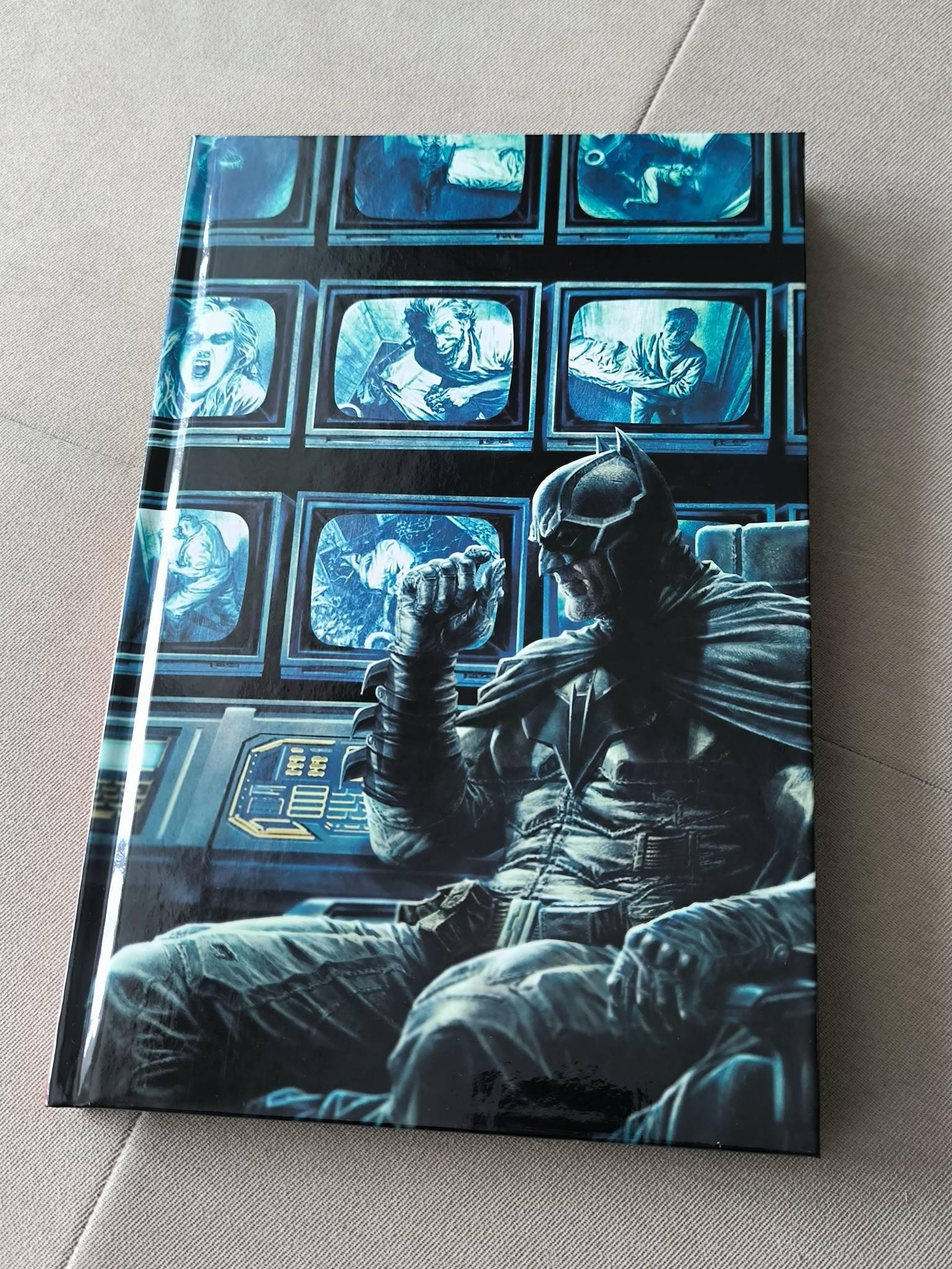comic: (48, 95, 875, 1153)
